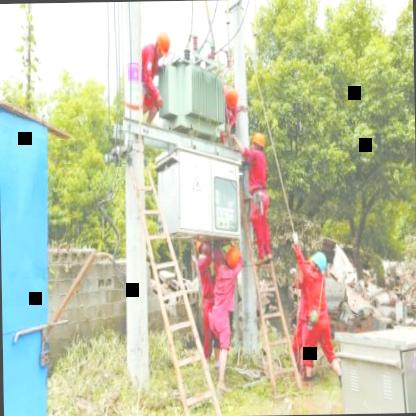helmet: (152, 30, 172, 60), (249, 127, 267, 154), (223, 84, 239, 112), (311, 247, 327, 274), (223, 247, 240, 270)
